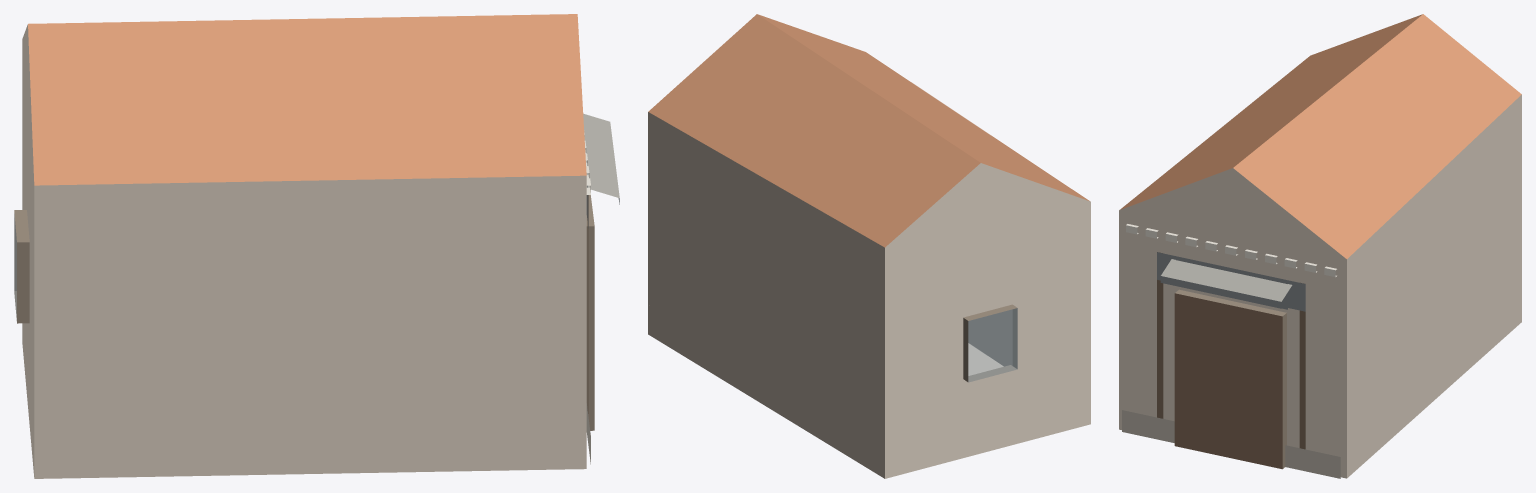
3 renders of one model, left to right at view 1: azimuth 30°, elevation 25°; view 2: azimuth 150°, elevation 25°; view 3: azimuth 270°, elevation 25°, orthographic. The views are drawn at different scales.
Visible parts, largest first — view 1: E-6; view 2: E-6; view 3: E-6.
Boxes of the visible parts, x1=… form: E-6: x1=14, y1=14, x2=619, y2=478; E-6: x1=648, y1=14, x2=1090, y2=478; E-6: x1=1119, y1=14, x2=1521, y2=478.
Bounding box in the file's own units: 7.59 × 4.96 × 6.33.
